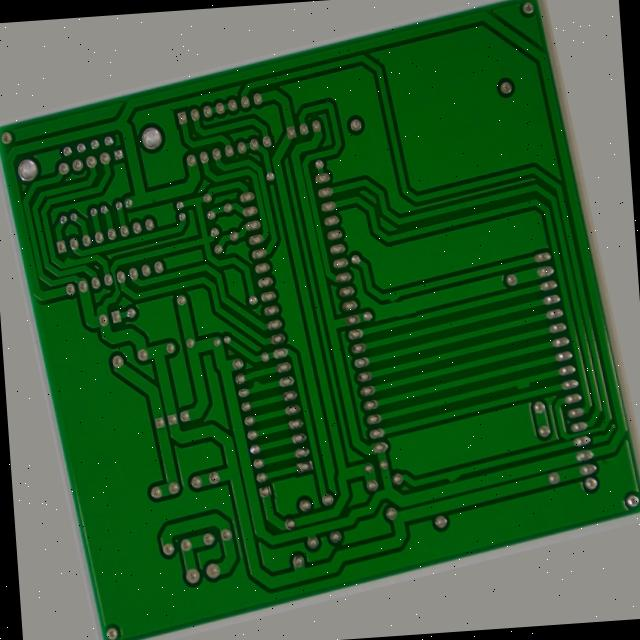spur: (522, 426, 549, 444), (230, 371, 252, 391), (395, 298, 415, 317), (41, 189, 61, 208), (432, 518, 453, 536)
